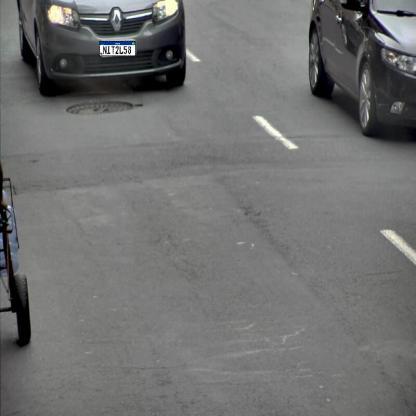PlacaM: (99, 41, 136, 56)
